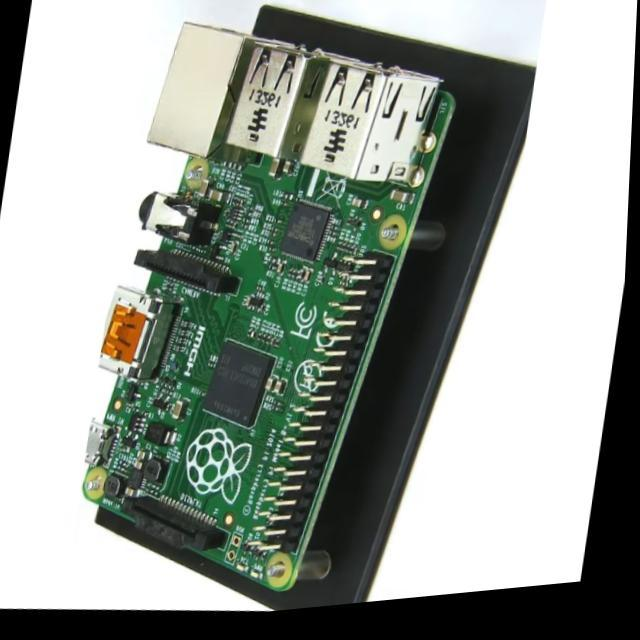Raspberry Pi 1 B-: (84, 24, 455, 592)
